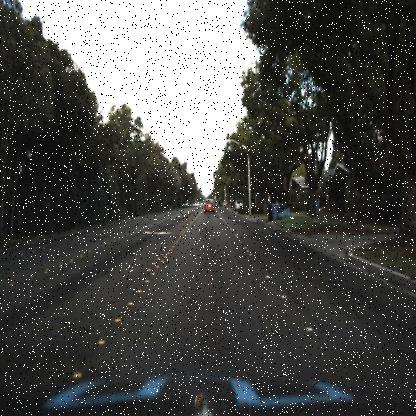car: (201, 196, 217, 218)
